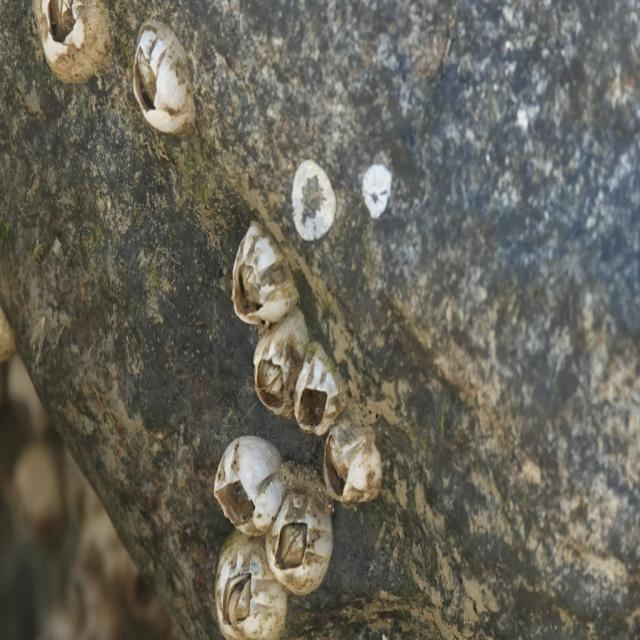barnacles: (120, 28, 208, 152), (210, 520, 287, 640), (200, 427, 280, 537), (224, 217, 297, 331), (26, 0, 111, 97), (264, 492, 331, 605), (249, 312, 301, 429), (289, 351, 340, 441), (330, 431, 384, 508)
